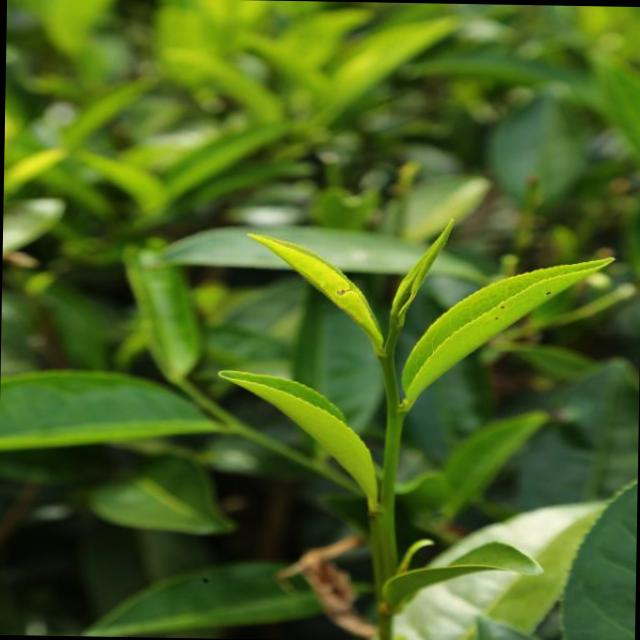Stem: (378, 351, 393, 370)
